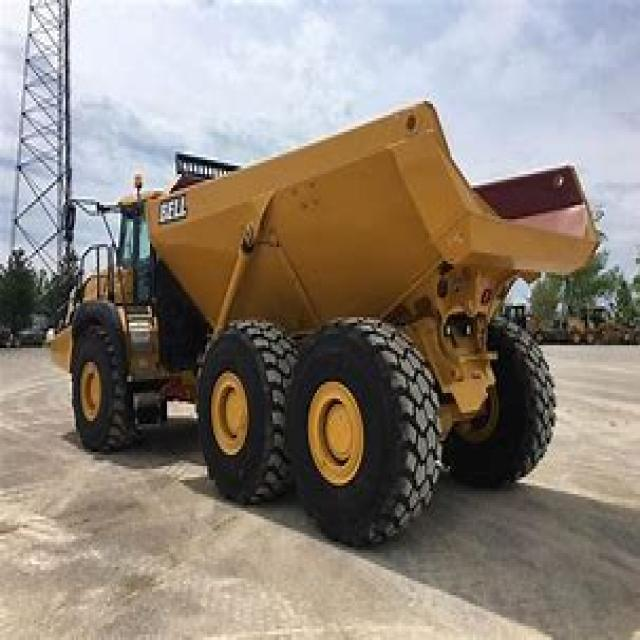dump_truck: (40, 95, 608, 548)
